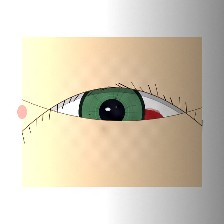hemorrhage_spot: (94, 86, 174, 150)
